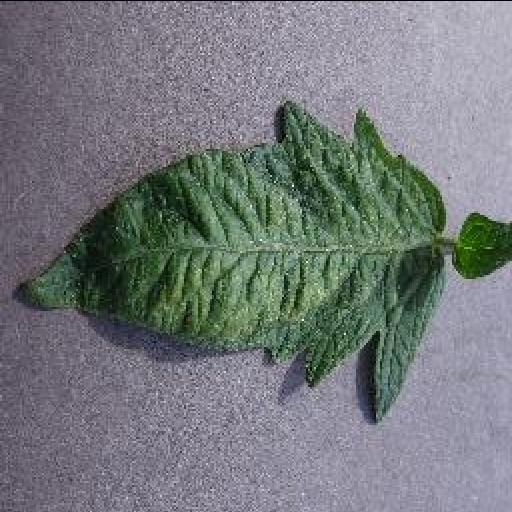disease_tomato: (18, 100, 446, 420)
